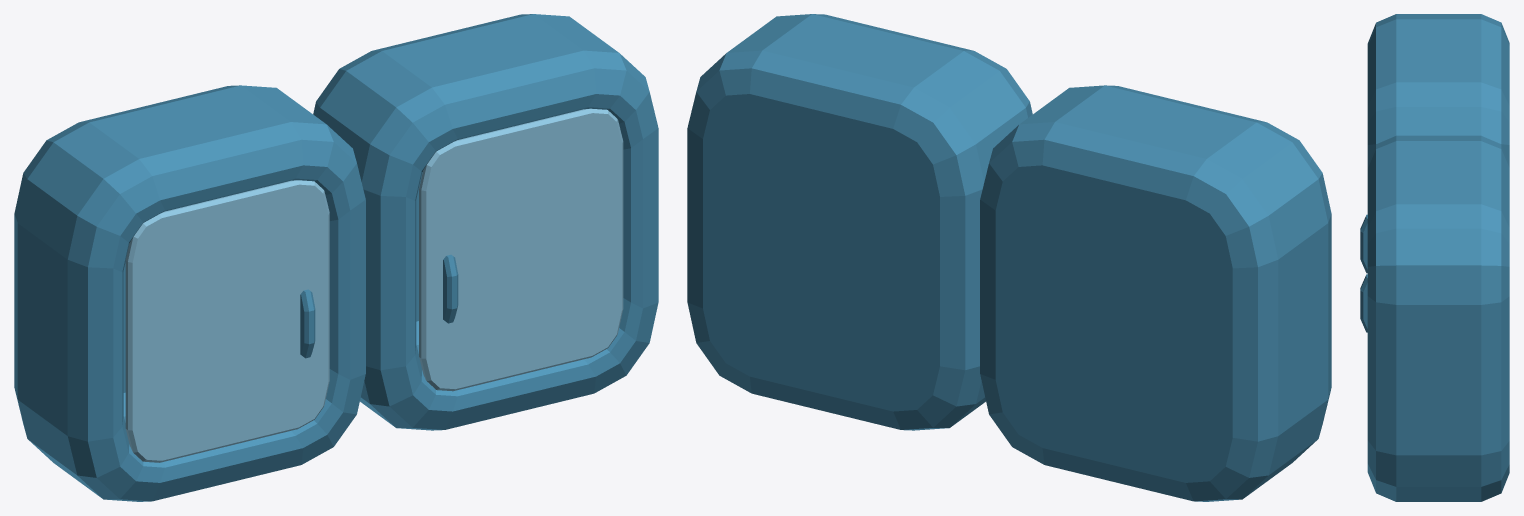
Rendered from Cupboard.fbx.
3 views of the same model, side by side, from view 1: azimuth 30°, elevation 25°; view 2: azimuth 150°, elevation 25°; view 3: azimuth 270°, elevation 25° (orthographic). The views are drawn at different scales.
Parts seen in each view (by area): view 1: KitchenCloset; view 2: KitchenCloset; view 3: KitchenCloset.
Part boxes in pixels (x1,y1,x2,y2): KitchenCloset: (14,14,658,501); KitchenCloset: (687,14,1331,501); KitchenCloset: (1360,14,1509,501).
Size of the model in its own units: 1.35 by 0.7527 by 0.349.
1 material, 1 textured.
